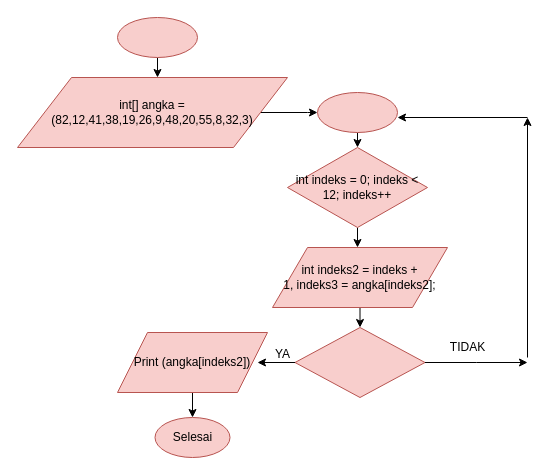
Image size: 553x475. Some labels were removed from this diagram. Here are the shapes that lost their labels. From the top down, the box of each, then its label:
(116, 16, 198, 58): Mulai
(316, 92, 398, 132): Loop
(294, 326, 425, 398): if (angka[indeks] < indeks3)
